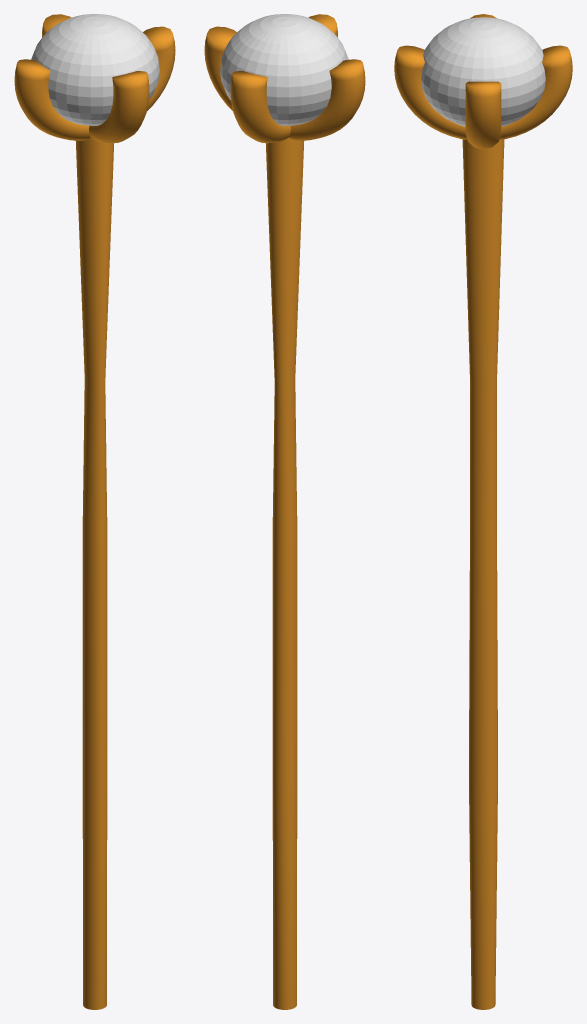
File: source sceptre.fbx
3 views of the same model, side by side, from view 1: azimuth 30°, elevation 25°; view 2: azimuth 150°, elevation 25°; view 3: azimuth 270°, elevation 25° (orthographic).
Parts seen in each view (by area): view 1: Rod, Jewel, Torus, Torus.001; view 2: Rod, Jewel, Torus, Torus.001; view 3: Rod, Jewel, Torus.001, Torus.
Part boxes in pixels (left/top/right/bottom): Rod: left=75, top=137, right=114, bottom=1009; Jewel: left=31, top=14, right=159, bottom=125; Torus: left=14, top=26, right=175, bottom=140; Torus.001: left=42, top=14, right=149, bottom=143; Rod: left=265, top=137, right=304, bottom=1009; Jewel: left=220, top=14, right=348, bottom=125; Torus: left=204, top=26, right=365, bottom=140; Torus.001: left=230, top=14, right=337, bottom=143; Rod: left=462, top=139, right=504, bottom=1009; Jewel: left=421, top=17, right=545, bottom=126; Torus.001: left=394, top=45, right=572, bottom=139; Torus: left=465, top=14, right=501, bottom=149.
Size of the model in its own units: 25 by 151 by 24.84.
